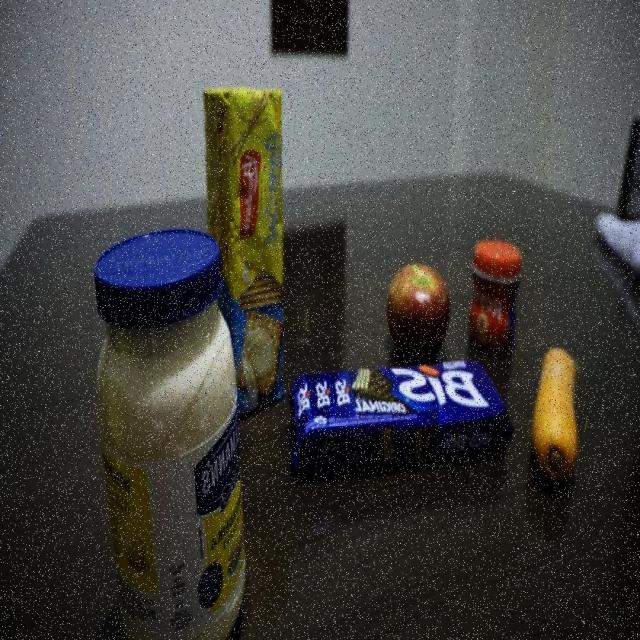Apple: (388, 262, 451, 360)
Carrot: (530, 345, 576, 488)
Cracker: (207, 82, 286, 422)
Mayonnaise: (93, 226, 250, 640)
Yeast: (467, 239, 523, 358)
